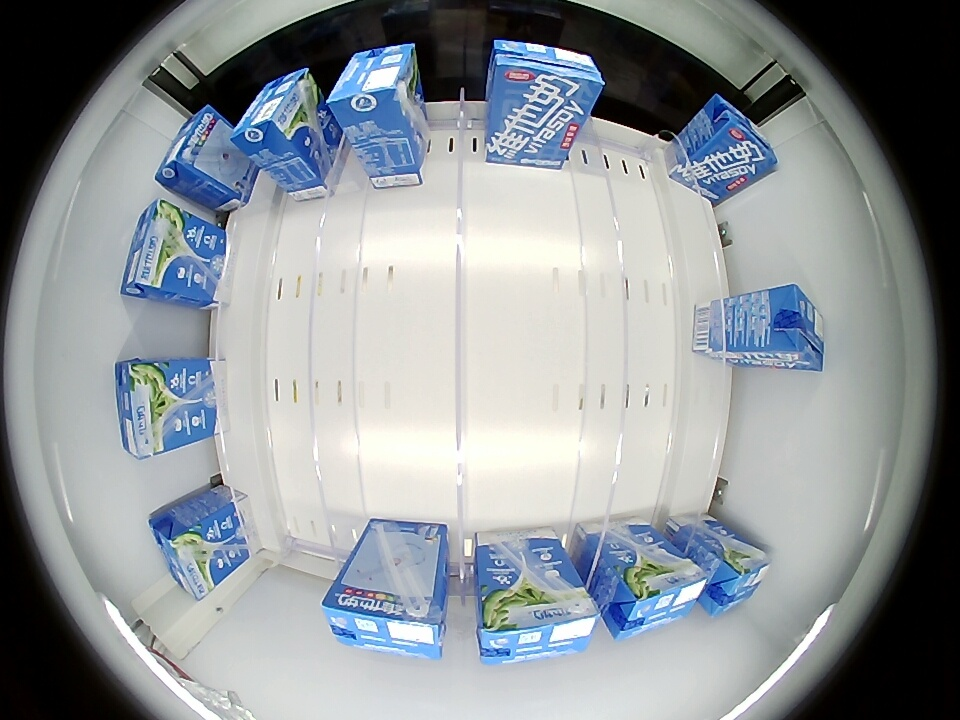weitanai: (120, 198, 219, 305), (322, 577, 446, 661), (476, 587, 602, 666), (488, 40, 605, 118), (229, 68, 322, 166), (604, 557, 709, 640), (326, 43, 418, 132), (694, 94, 779, 181), (148, 506, 222, 599), (116, 358, 183, 460), (155, 105, 228, 193), (759, 285, 825, 370), (704, 544, 773, 616)
